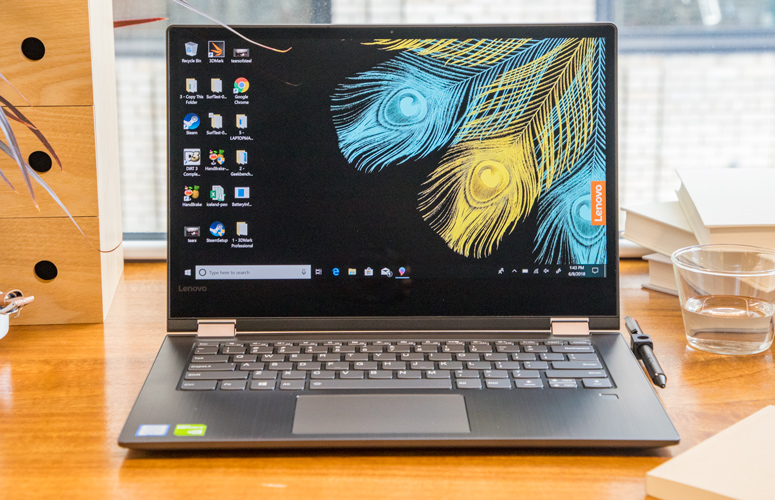Laptop: (113, 21, 687, 468)
